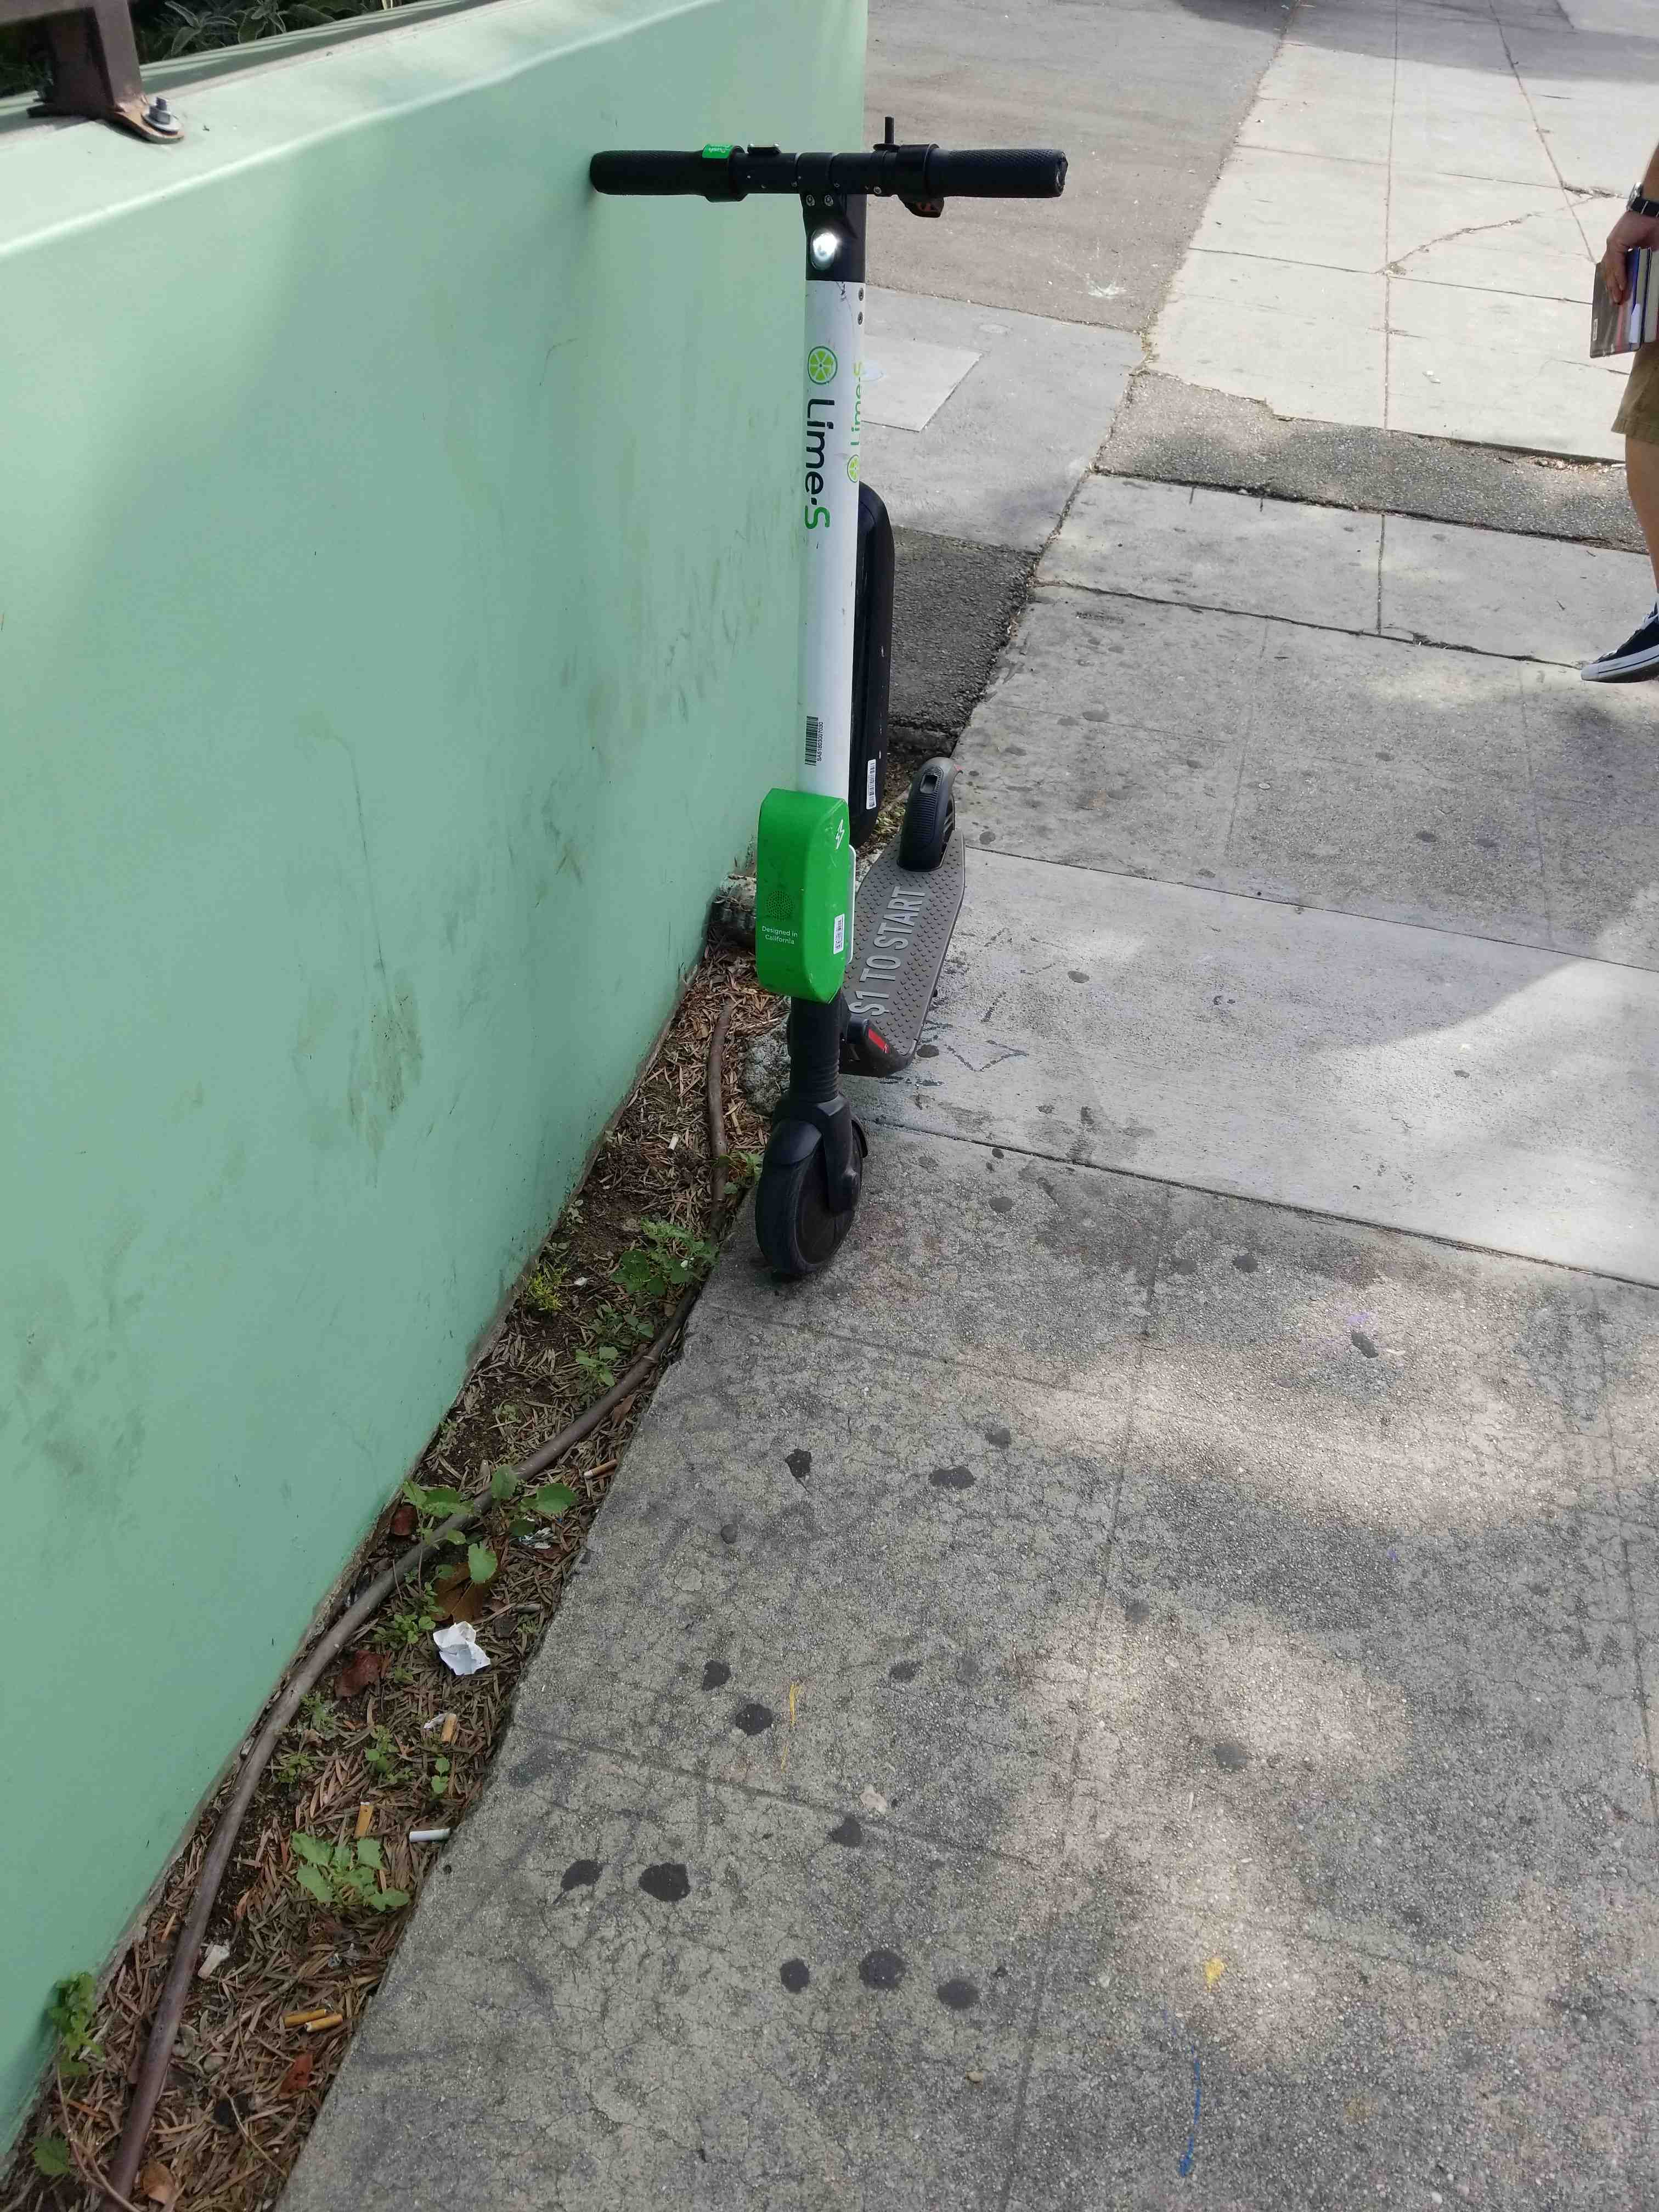scooter: (579, 111, 1044, 1280)
